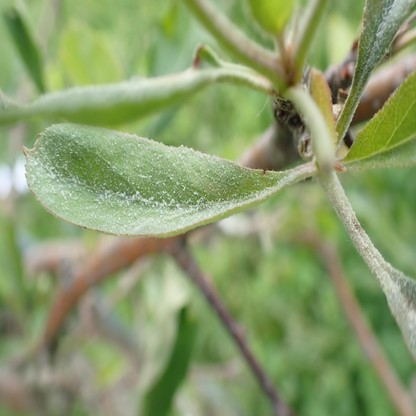powdery_mildew: (21, 121, 287, 238), (359, 1, 415, 64), (380, 260, 416, 358)
